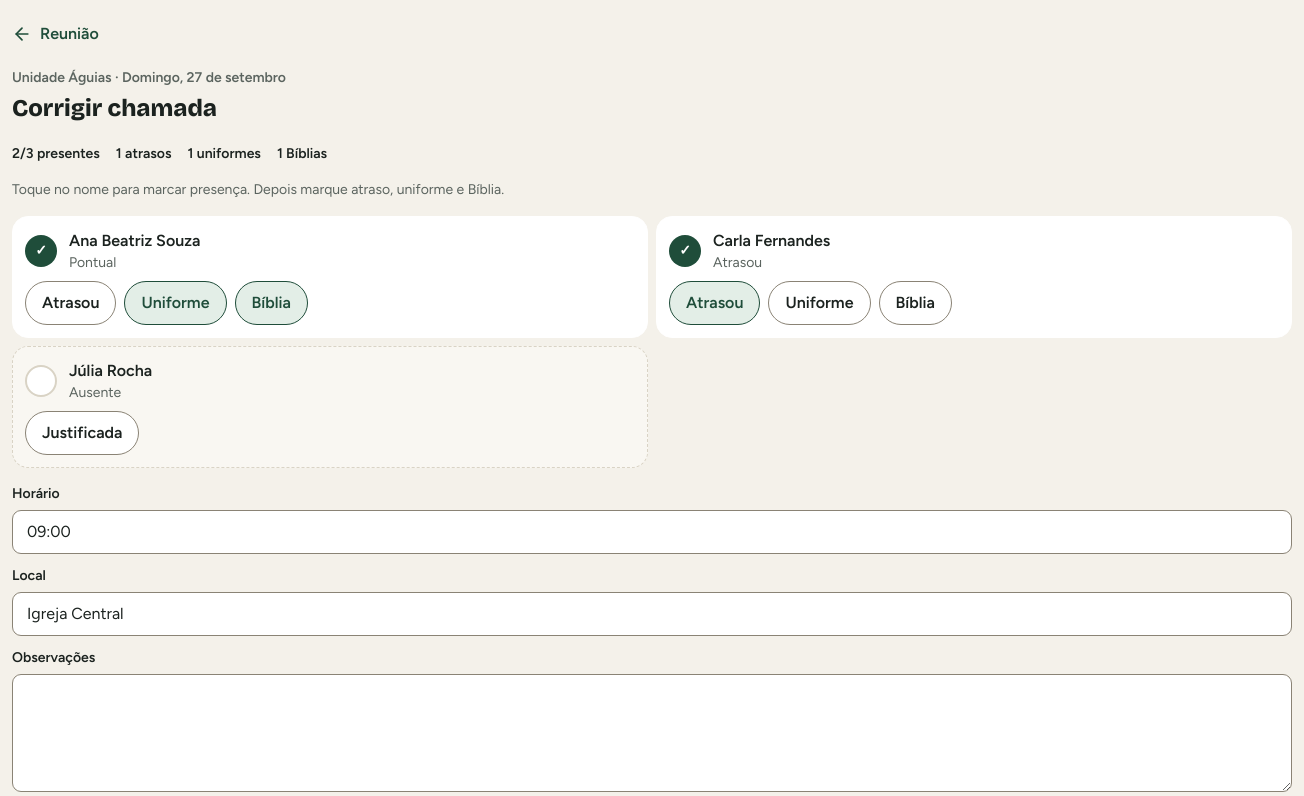
Test: corrigir chamada (Adm) › a lista vem das linhas da reunião; envia direto só o que mudou e volta à ficha atualizada
Click the button "✓ Júlia Rocha Ausente" at (41, 381), box [25, 359, 635, 403]
(page scrolled)
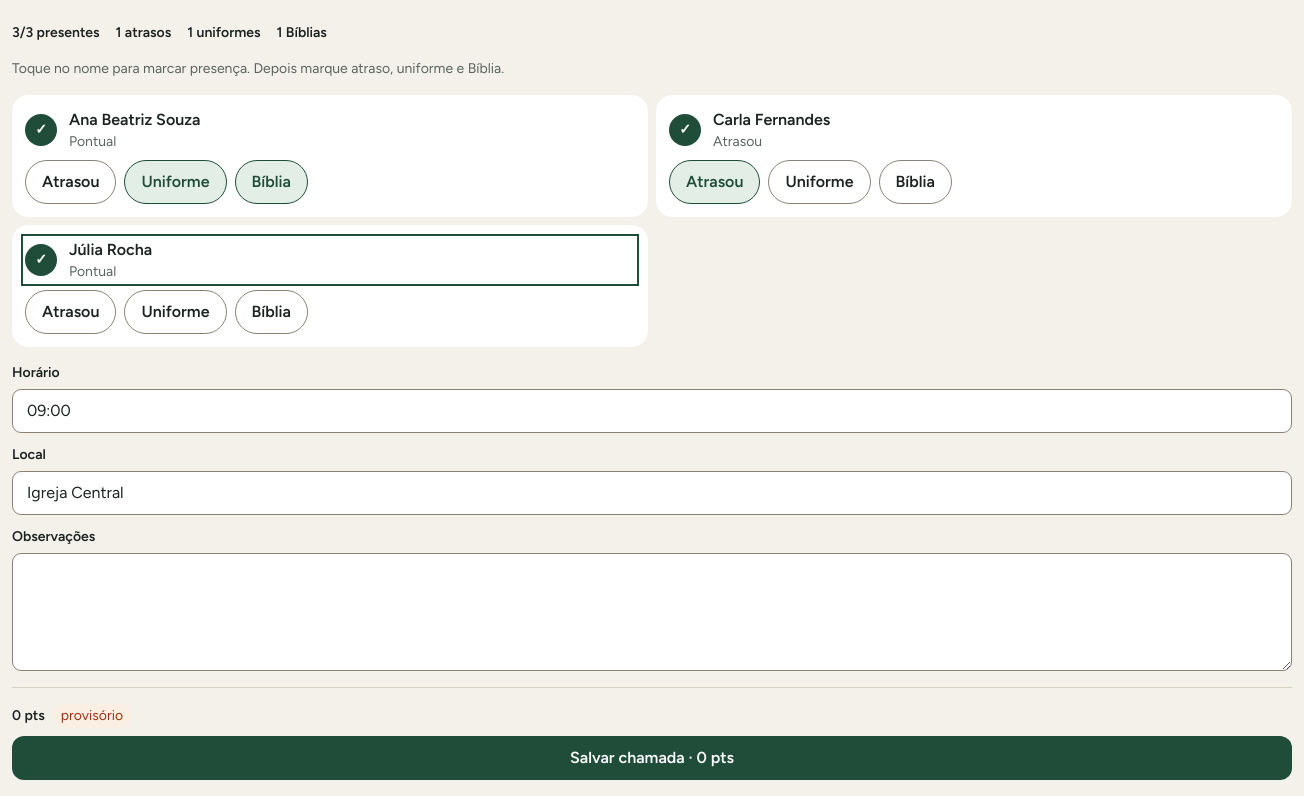
Click the button "Salvar chamada · 0 pts" at (652, 758), box [12, 736, 1292, 780]
(page scrolled)
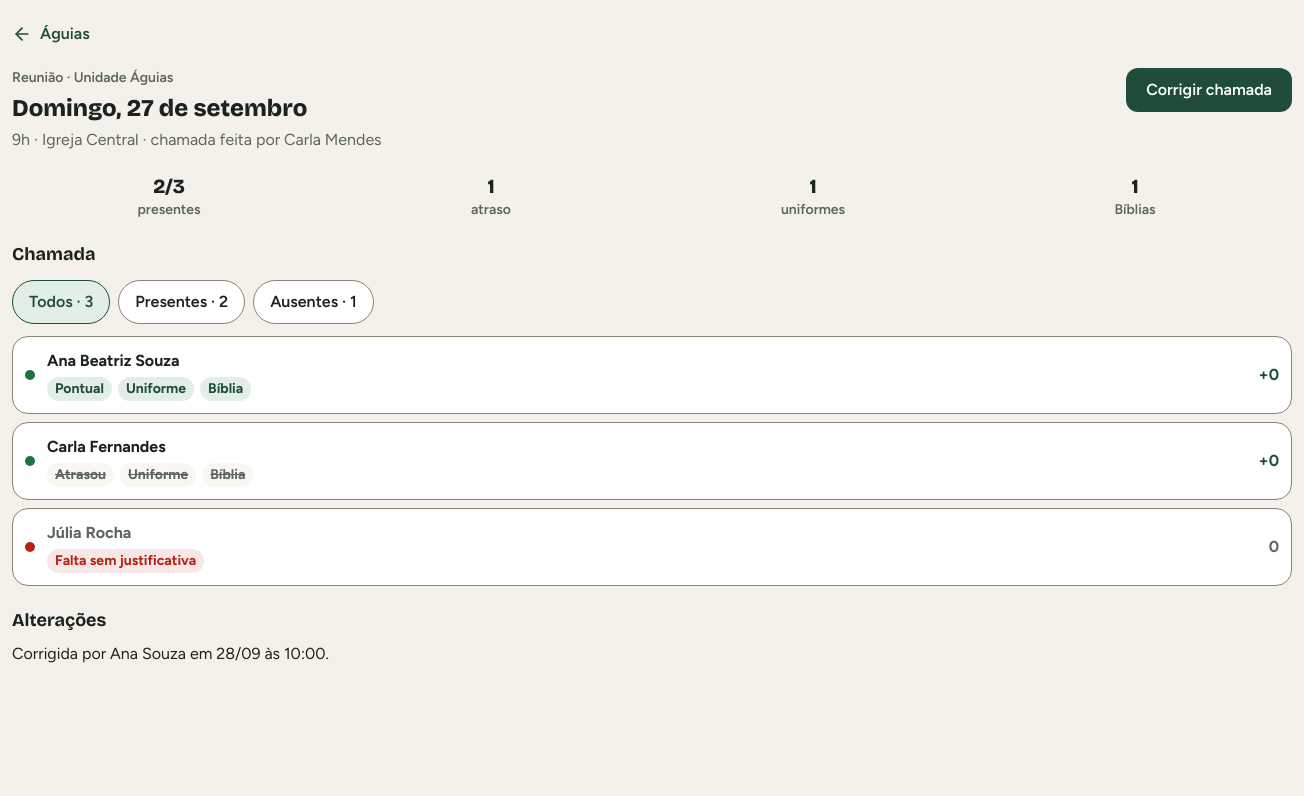
Check: the text "Corrigida por Ana Souza em 28/09 às 10:00." is shown, box [12, 644, 329, 663]
